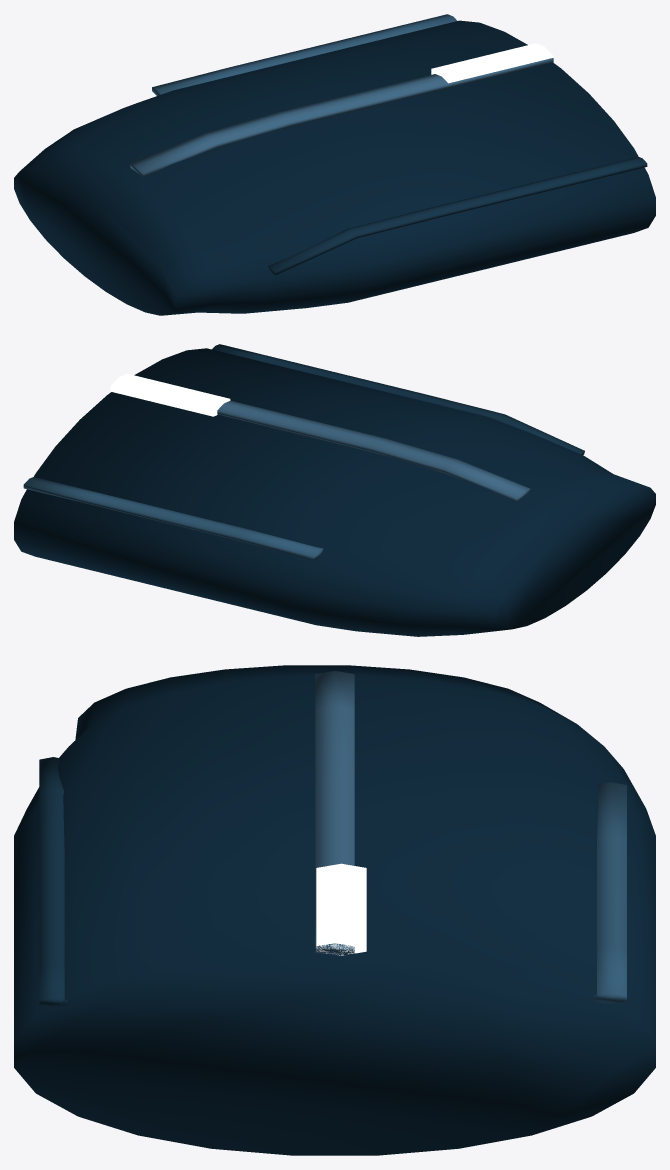
File: newshs-1.glb
The picture shows the model from 3 angles, top to bottom: view 1: azimuth 30°, elevation 25°; view 2: azimuth 150°, elevation 25°; view 3: azimuth 270°, elevation 25°; orthographic projection. The views are drawn at different scales.
Parts seen in each view (by area): view 1: newshs-1; view 2: newshs-1; view 3: newshs-1.
Boxes of the visible parts, x1,y1,x2,y2 form: newshs-1: [14, 14, 655, 315]; newshs-1: [14, 344, 655, 636]; newshs-1: [14, 665, 655, 1155].
Bounding box in the file's own units: 2 × 0.6155 × 1.65.
